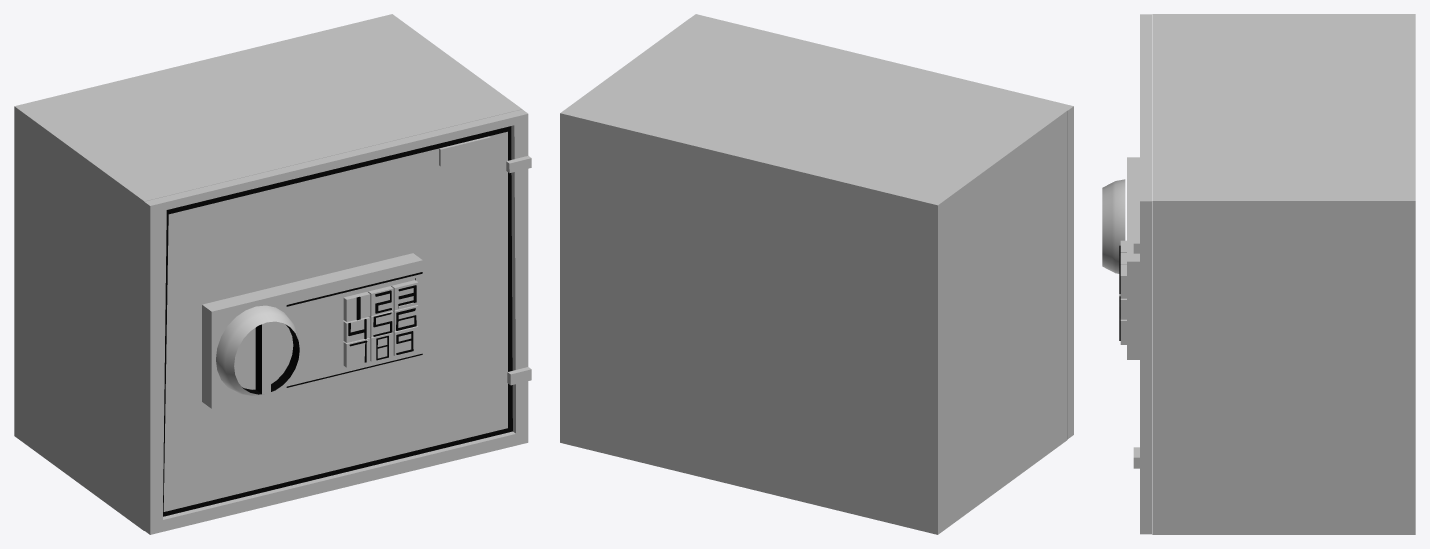
Rendered from locker.FBX.
3 renders of one model, left to right at view 1: azimuth 30°, elevation 25°; view 2: azimuth 150°, elevation 25°; view 3: azimuth 270°, elevation 25°, orthographic.
Parts seen in each view (by area): view 1: Box001, Box002, Cone001; view 2: Box002, Box001; view 3: Box002, Box001, Cone001.
Part boxes in pixels (x1,y1,x2,y2): Box001: (144, 109, 531, 534); Box002: (14, 14, 522, 530); Cone001: (216, 305, 299, 395); Box002: (560, 18, 1067, 534); Box001: (690, 14, 1073, 438); Box002: (1152, 14, 1415, 534); Box001: (1119, 14, 1151, 534); Cone001: (1102, 179, 1125, 273).
Bounding box in the file's own units: 67.71 × 56.42 × 47.92.
